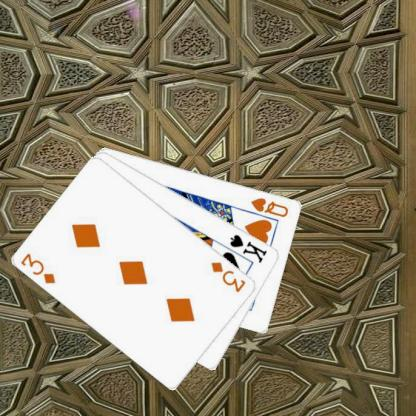3D: (208, 259, 247, 294), (18, 250, 57, 285)
KS: (228, 231, 268, 264)
QH: (249, 195, 290, 218)
